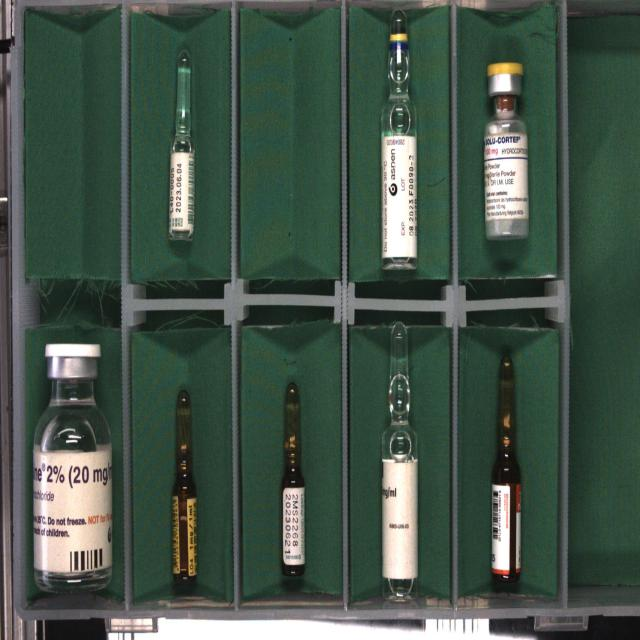Vials: (33, 343, 112, 590), (484, 62, 528, 239)
